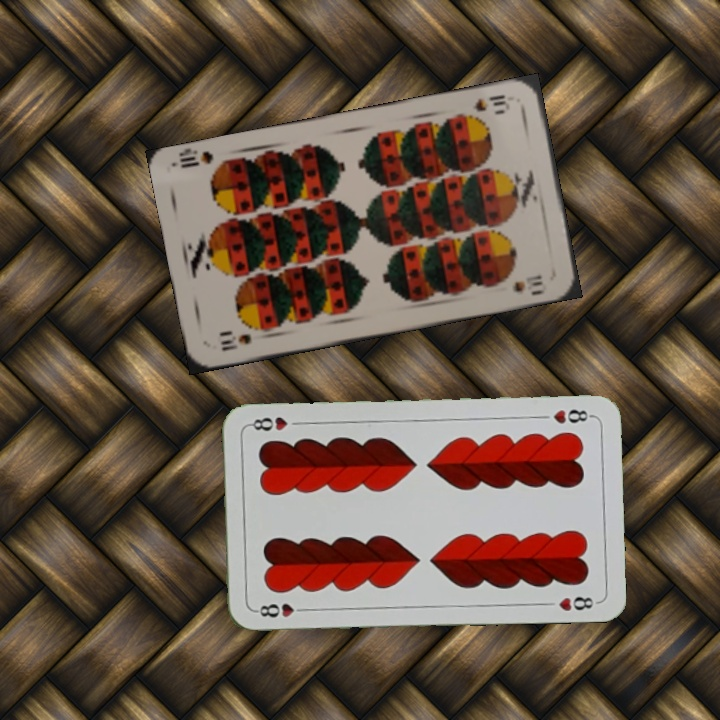H8: (251, 599, 310, 621), (549, 405, 595, 427)
S10: (470, 90, 513, 116), (216, 329, 254, 354)
